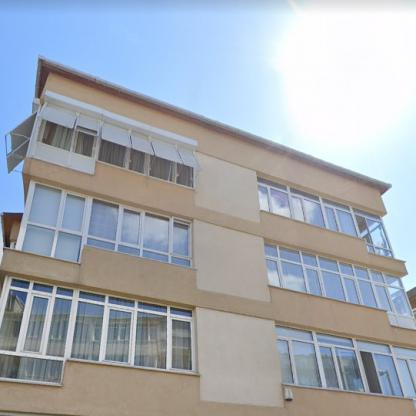window: (0, 278, 193, 383), (22, 182, 192, 268), (38, 109, 192, 187), (265, 242, 411, 316), (260, 180, 394, 256), (276, 325, 415, 398)
